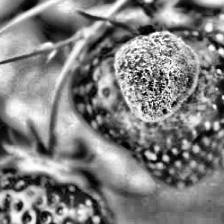Gray Mold: (102, 29, 218, 146)
